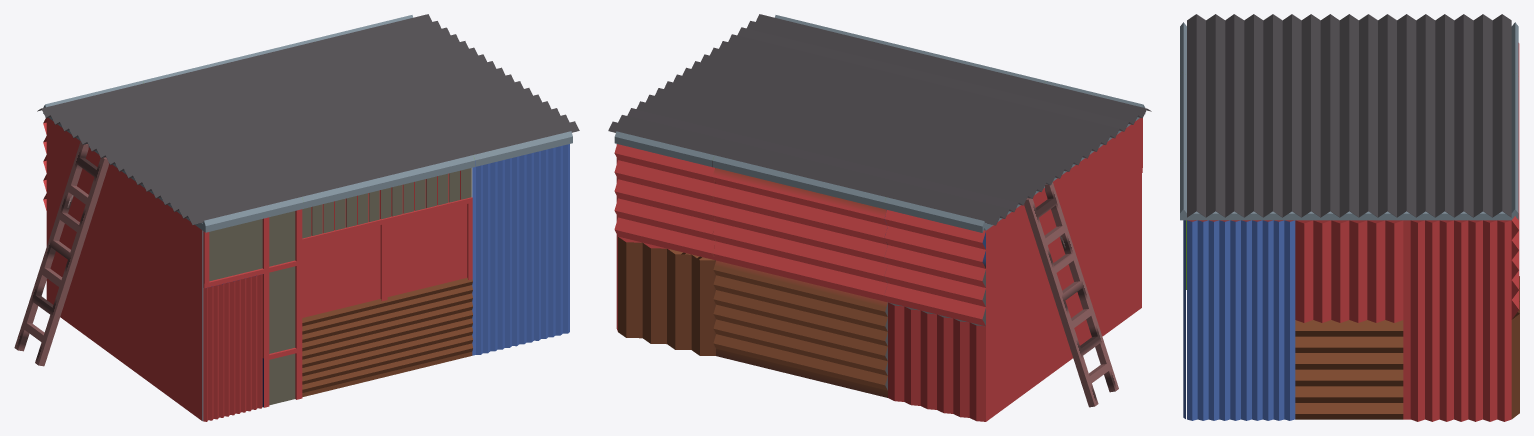
File: building.fbx
The picture shows the model from 3 angles, left to right: view 1: azimuth 30°, elevation 25°; view 2: azimuth 150°, elevation 25°; view 3: azimuth 270°, elevation 25°; orthographic projection. The views are drawn at different scales.
Parts seen in each view (by area): view 1: Cube.010, Cube.009, Cube.024, Cube.023, Cube.025, Cube.026, Ladder.001, Cube.027; view 2: Cube.010, Cube.048, Cube.009, Cube.050, Cube.051, Cube.049, Ladder.001; view 3: Cube.010, Cube.029, Cube.047, Cube.045, Cube.046, Cube.009, Cube.048, Cube.049, Cube.023.
Boxes of the visible parts, box(x1,y1,x2,y2) form: Cube.010: box(37, 14, 579, 225); Cube.009: box(43, 15, 572, 421); Cube.024: box(203, 209, 302, 421); Cube.023: box(472, 144, 569, 355); Cube.025: box(302, 197, 472, 317); Cube.026: box(302, 278, 472, 397); Ladder.001: box(14, 141, 108, 366); Cube.027: box(302, 168, 471, 238); Cube.010: box(608, 14, 1151, 225); Cube.048: box(614, 144, 985, 326); Cube.009: box(614, 15, 1145, 421); Cube.050: box(713, 260, 887, 397); Cube.051: box(888, 302, 985, 421); Cube.049: box(618, 237, 715, 355); Ladder.001: box(1024, 182, 1118, 407); Cube.010: box(1187, 14, 1511, 217); Cube.029: box(1187, 220, 1295, 420); Cube.047: box(1403, 220, 1511, 421); Cube.045: box(1295, 220, 1403, 322); Cube.046: box(1295, 320, 1403, 419); Cube.009: box(1180, 22, 1518, 223); Cube.048: box(1511, 43, 1519, 319); Cube.049: box(1511, 276, 1519, 418); Cube.023: box(1183, 220, 1185, 418).
Size of the model in its own units: 1745 by 1099 by 763.
